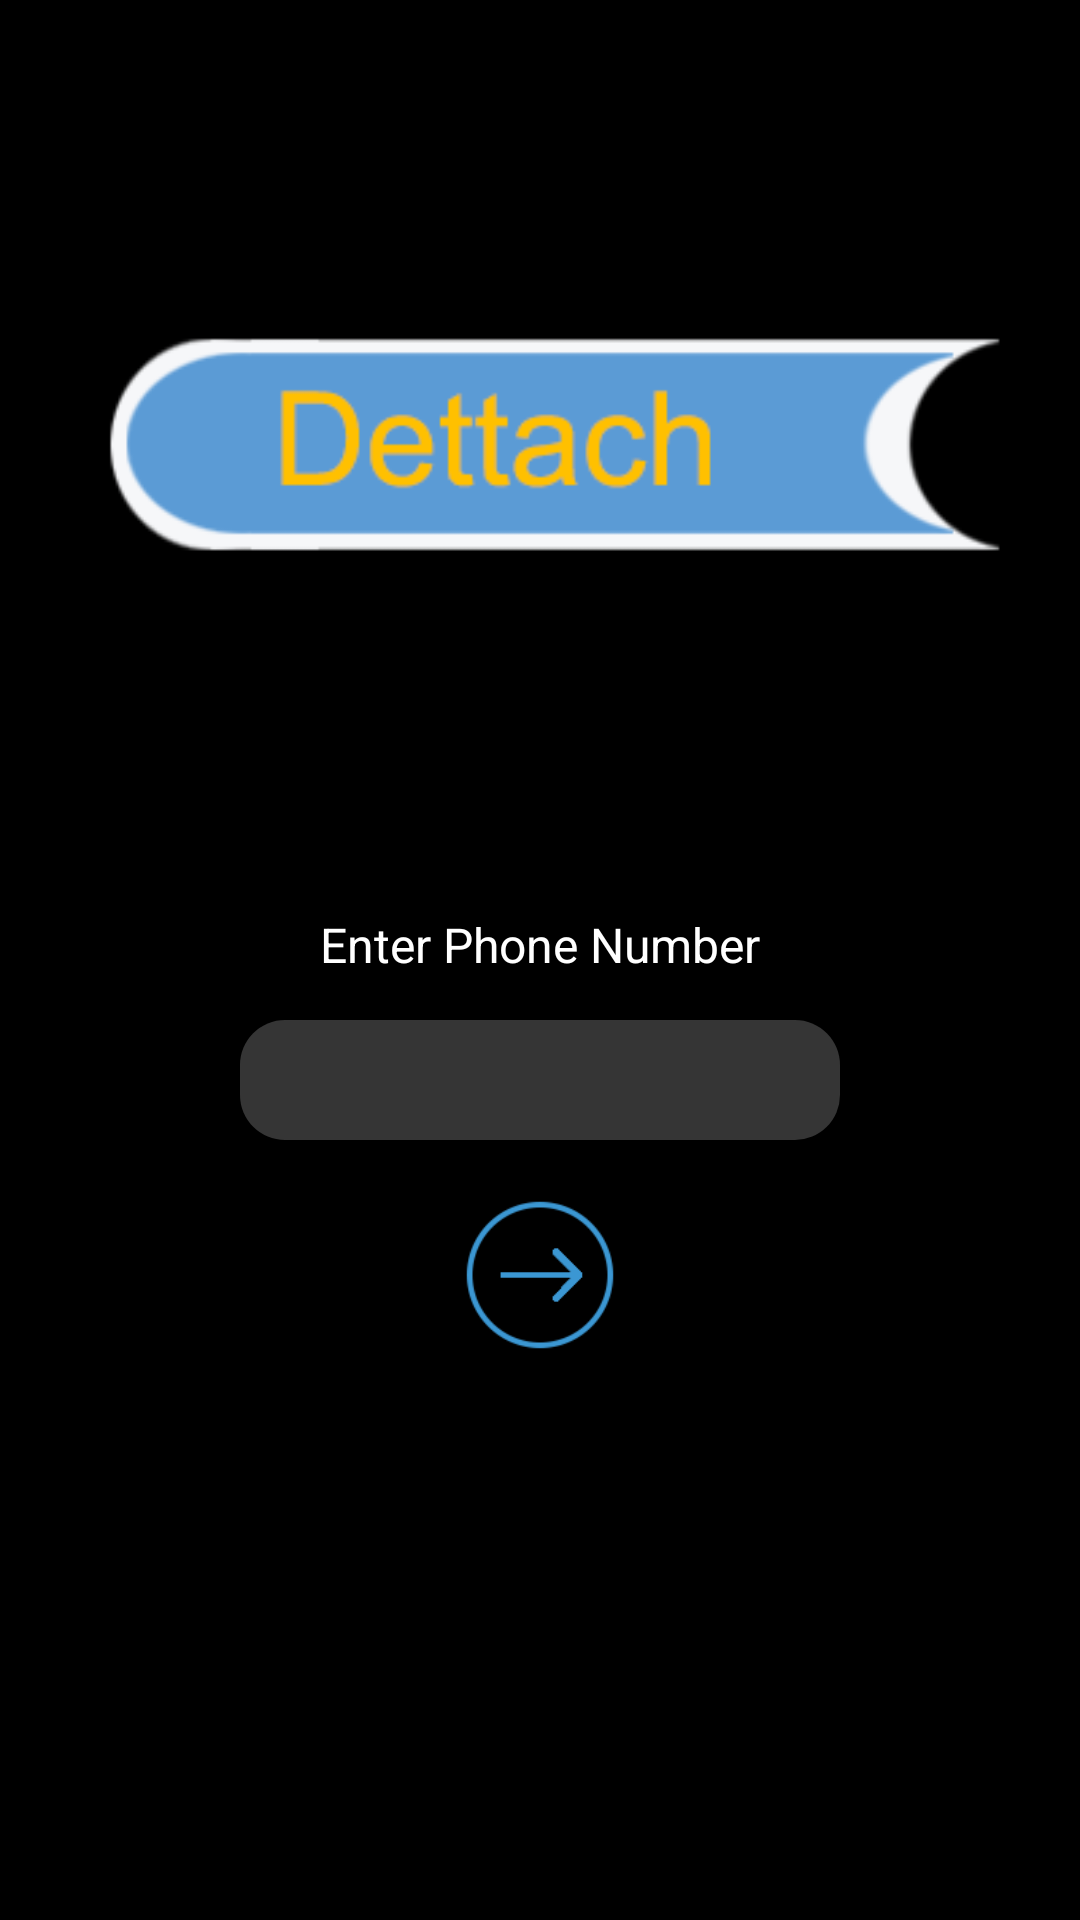

Named icons in this screenshot (1080x1920) and their bounding boxes, (x1, y1, x2, y2):
submit: (466, 1201, 614, 1349)
